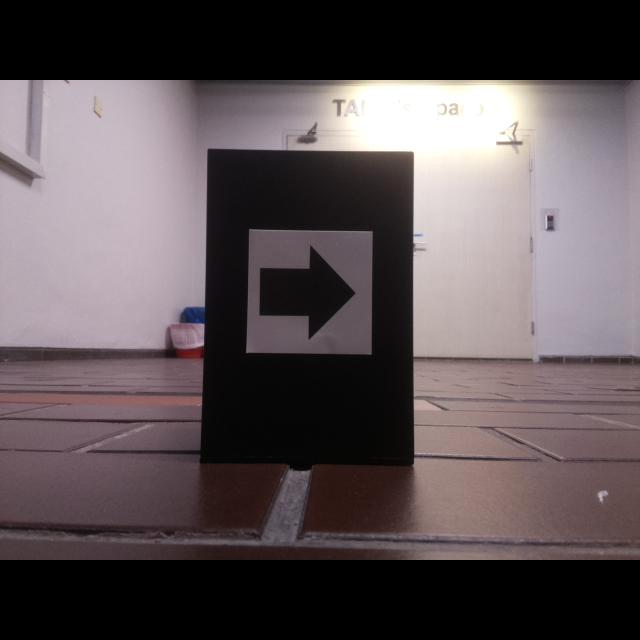RIGHT: (260, 246, 355, 338)
